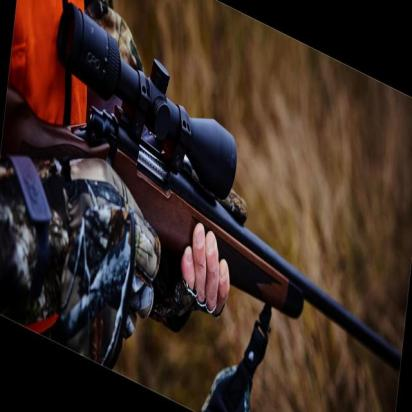Gun: (2, 0, 412, 402)
